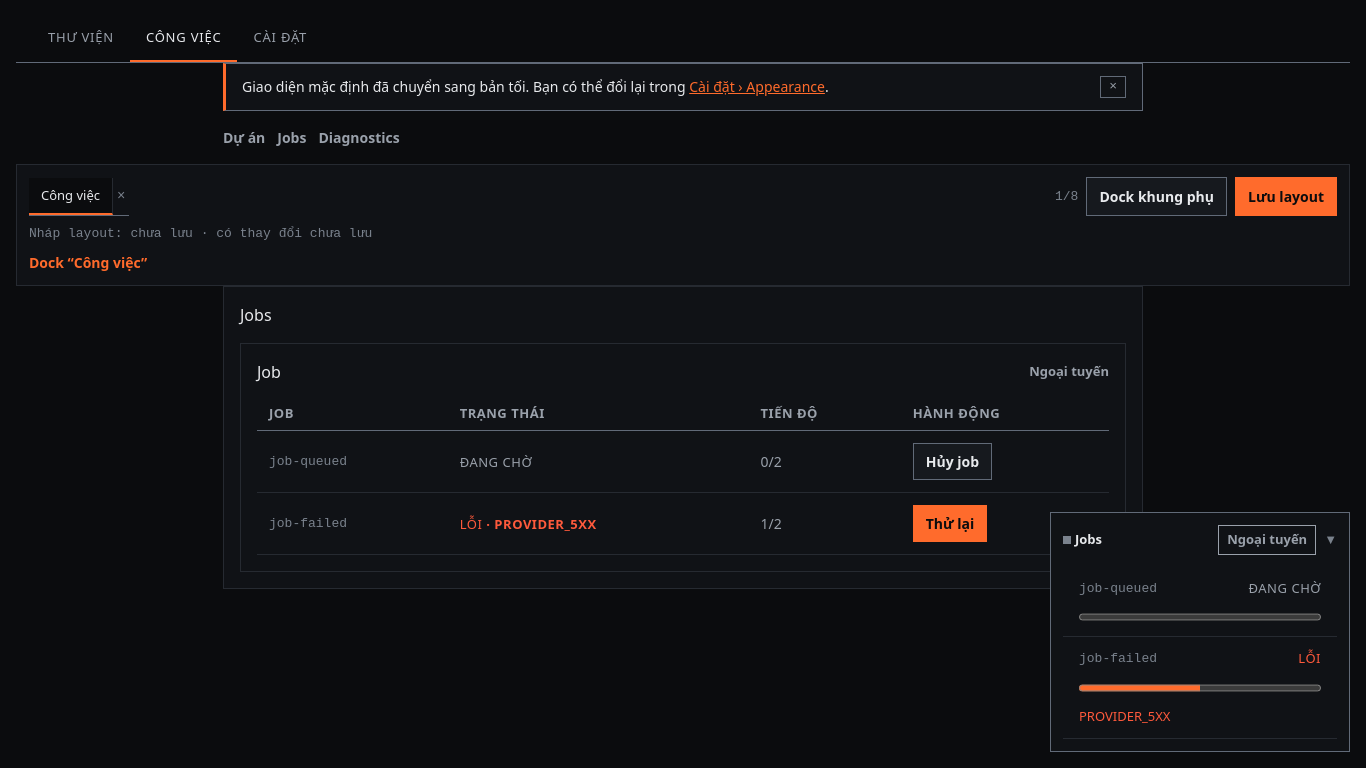
Scenario: App › gửi hủy/thử lại lên API job thật rồi đọc lại trạng thái backend xác nhận (U07)
The image size is (1366, 768).
Step 1. Click the button "Hủy job" → (952, 461), box [913, 443, 992, 480]
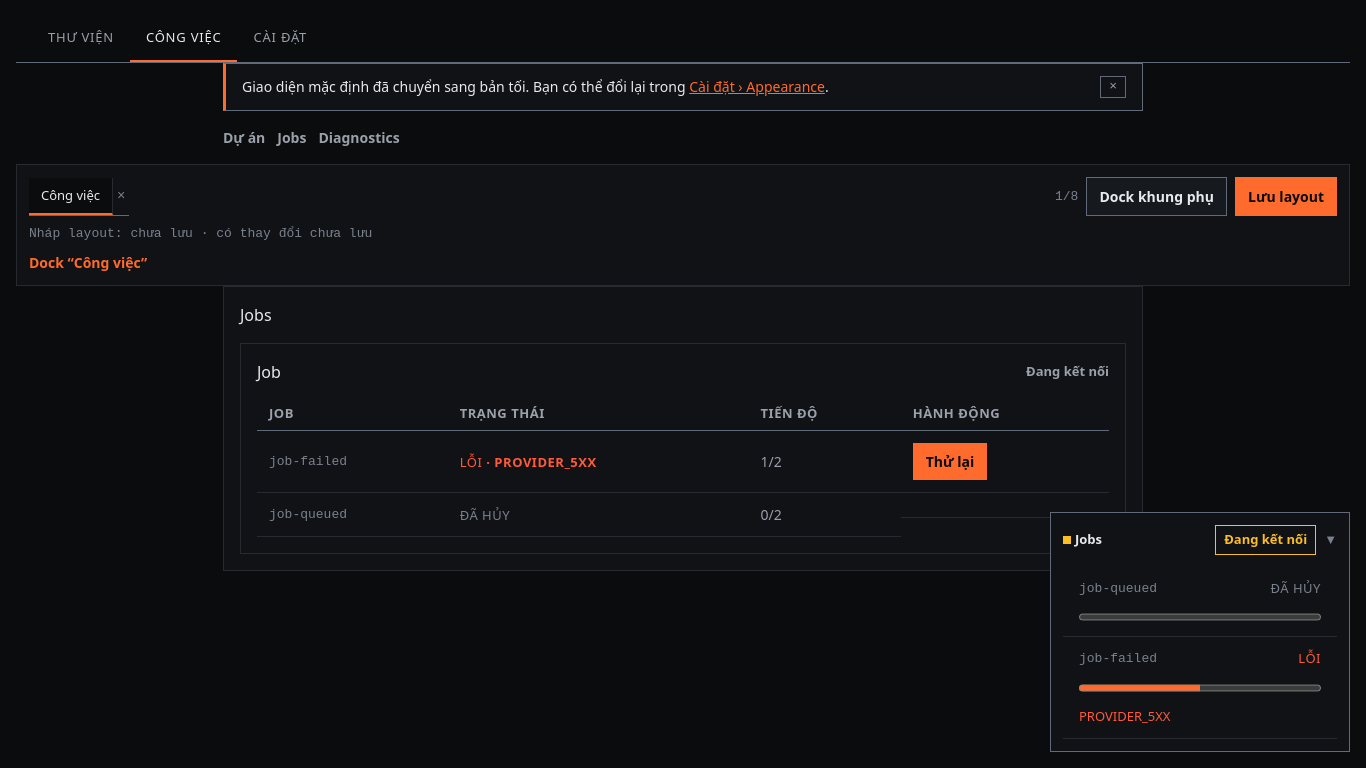
Result: the text "Đã hủy" is shown at [448, 493, 748, 537]
Step 2. Click the button "Thử lại" → (950, 461), box [913, 443, 987, 480]
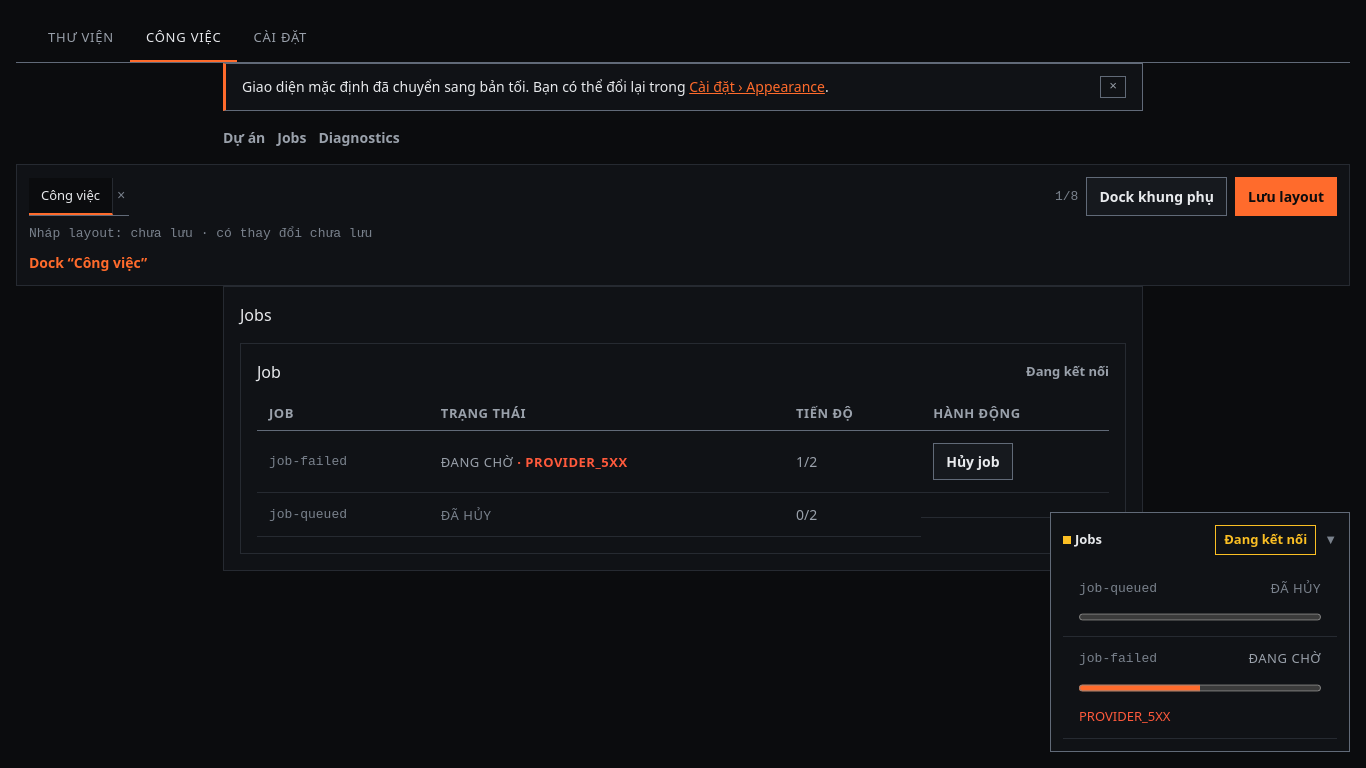
Result: the text "Đang chờ" is shown at [441, 452, 513, 470]
